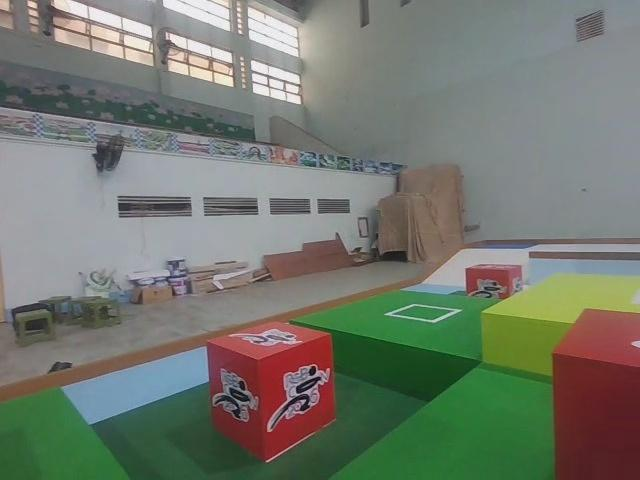R1: (203, 314, 340, 465), (462, 261, 526, 302)
